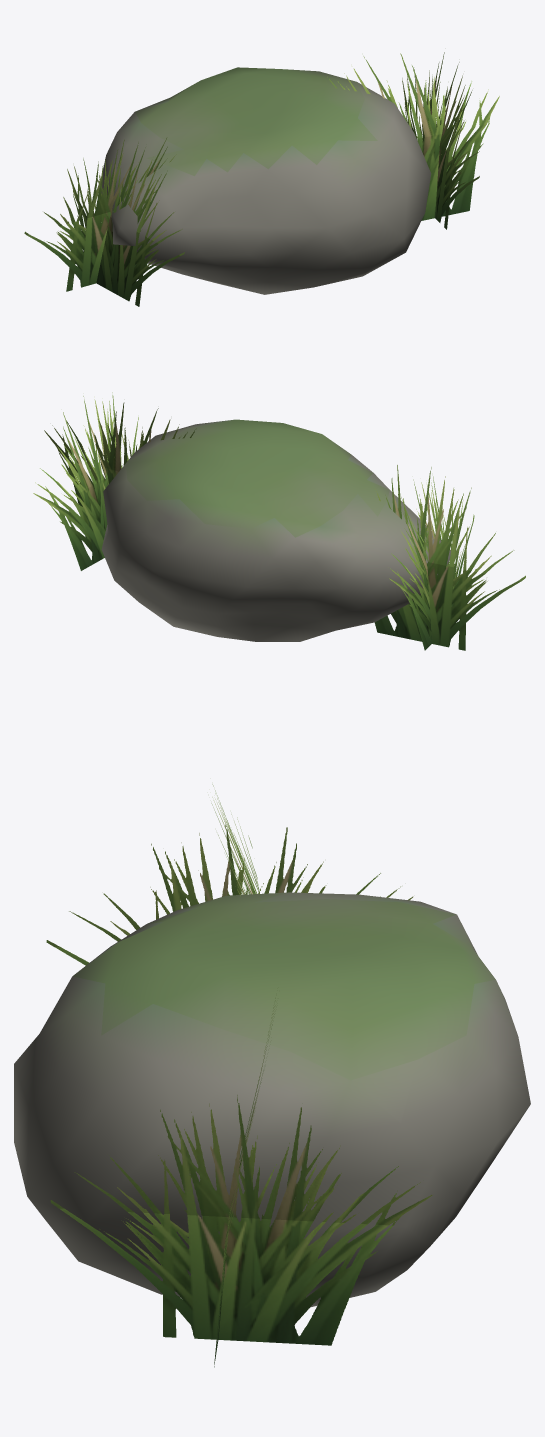
File: rock_a.glb
3 views of the same model, one above another, from view 1: azimuth 30°, elevation 25°; view 2: azimuth 150°, elevation 25°; view 3: azimuth 270°, elevation 25° (orthographic). The views are drawn at different scales.
Parts seen in each view (by area): view 1: rock_a_mesh; view 2: rock_a_mesh; view 3: rock_a_mesh.
Boxes of the visible parts, x1=… form: rock_a_mesh: x1=24, y1=52, x2=499, y2=306; rock_a_mesh: x1=33, y1=392, x2=525, y2=650; rock_a_mesh: x1=14, y1=784, x2=530, y2=1367.
Size of the model in its own units: 0.9169 by 0.3434 by 0.4474.
3 materials, 1 textured.
